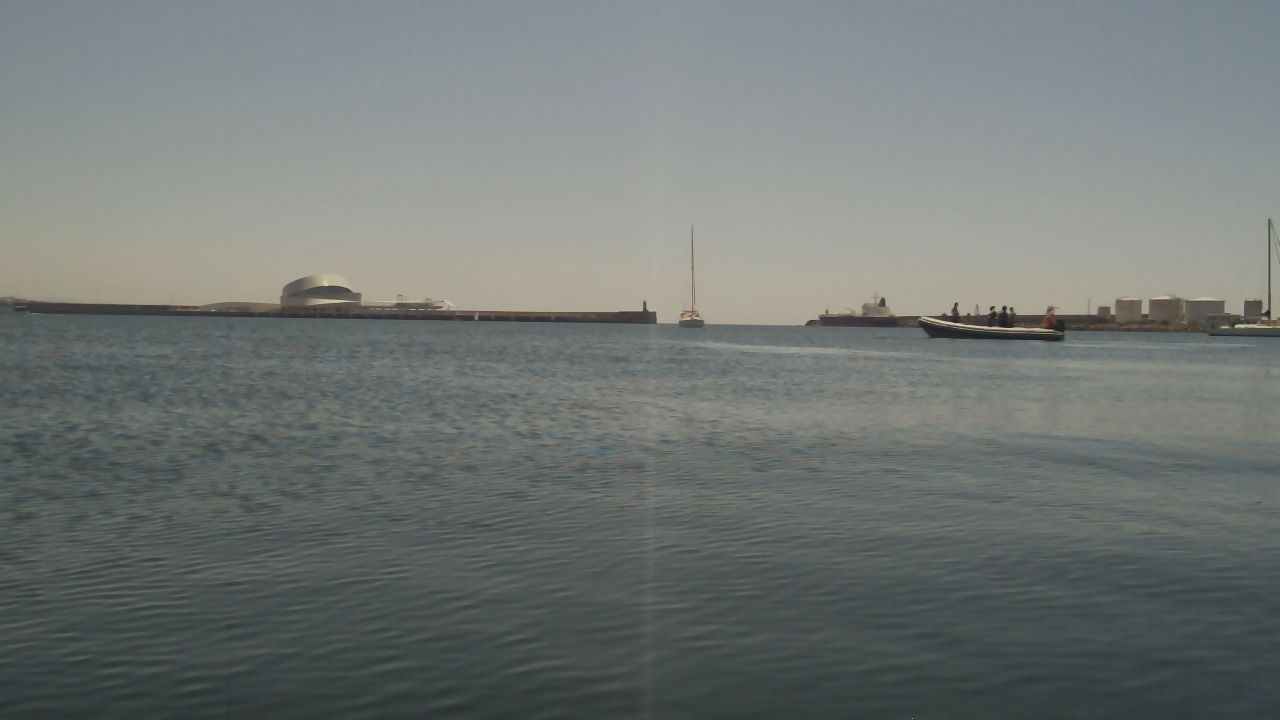Container Ship: (818, 296, 901, 325)
